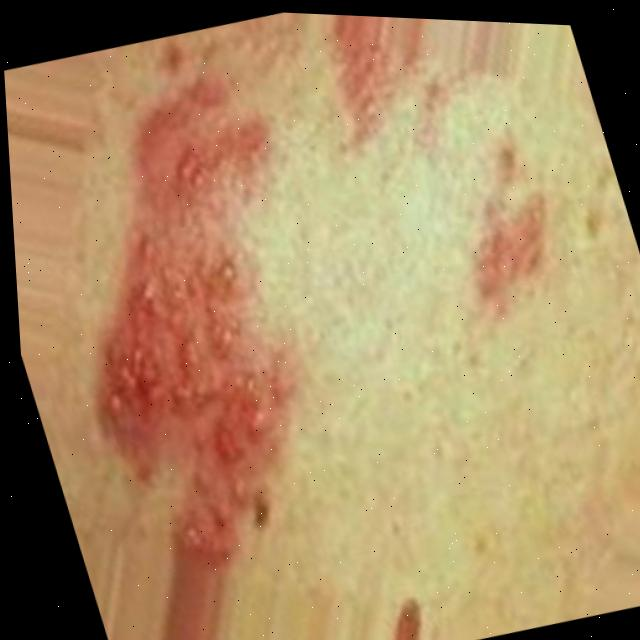Shingles: (4, 70, 405, 586), (335, 15, 565, 333)
